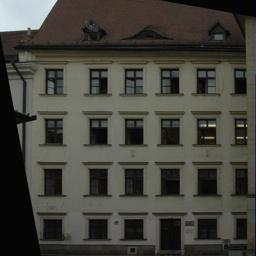building: (16, 0, 256, 256)
